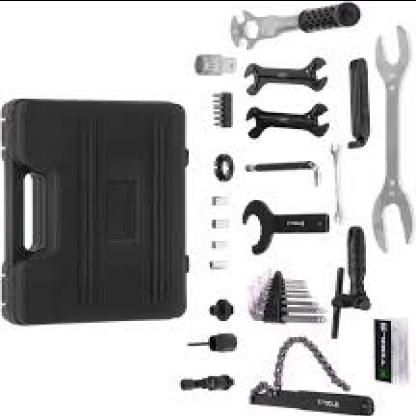Wrench: (370, 24, 414, 254), (240, 198, 330, 256), (245, 55, 328, 97), (245, 100, 329, 140)
